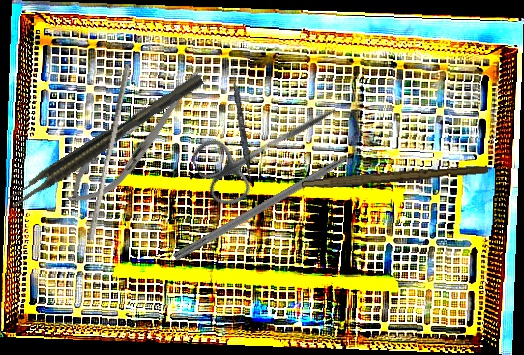Hook Surgical: (172, 139, 378, 264)
Iris Scissors: (186, 77, 352, 213)
Needle Holder: (56, 58, 216, 218)
Pusher: (86, 62, 132, 242)
Scalpel Handle: (301, 161, 489, 194)
Spatula Surgical: (227, 59, 256, 186)
Tissue Forceps: (5, 73, 208, 210)
